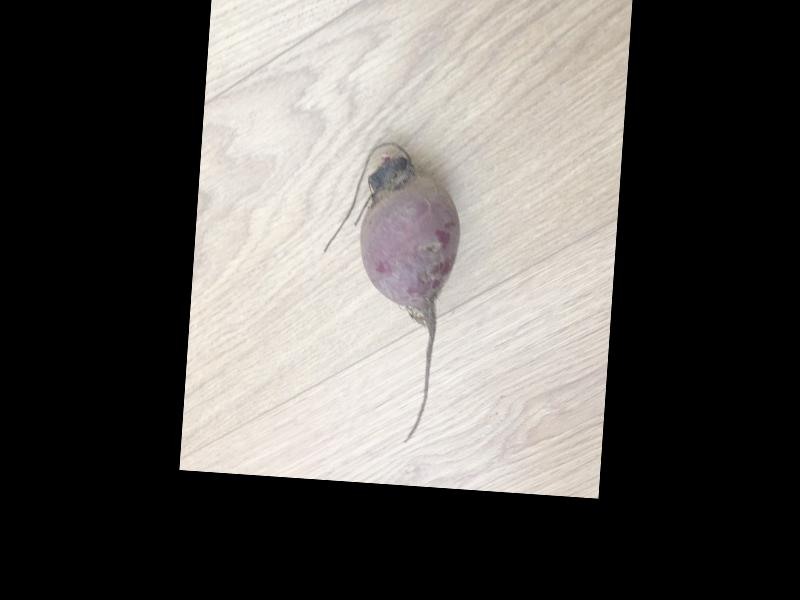Beet: (311, 138, 466, 446)
